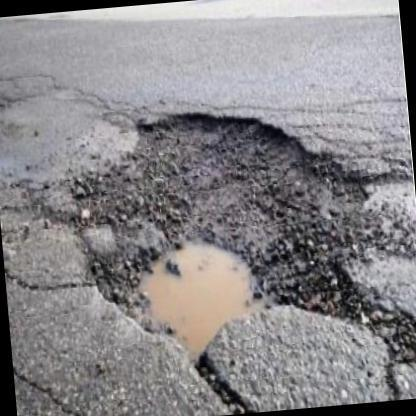pothole: (57, 106, 416, 392)
